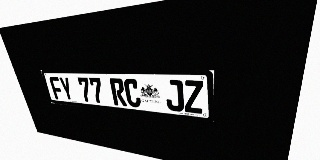7: (76, 77, 94, 103), (88, 78, 105, 104)
C: (123, 79, 142, 108)
F: (49, 77, 65, 100)
J: (164, 80, 184, 112)
R: (109, 78, 127, 106)
Y: (58, 77, 75, 101)
Z: (183, 80, 203, 114)
